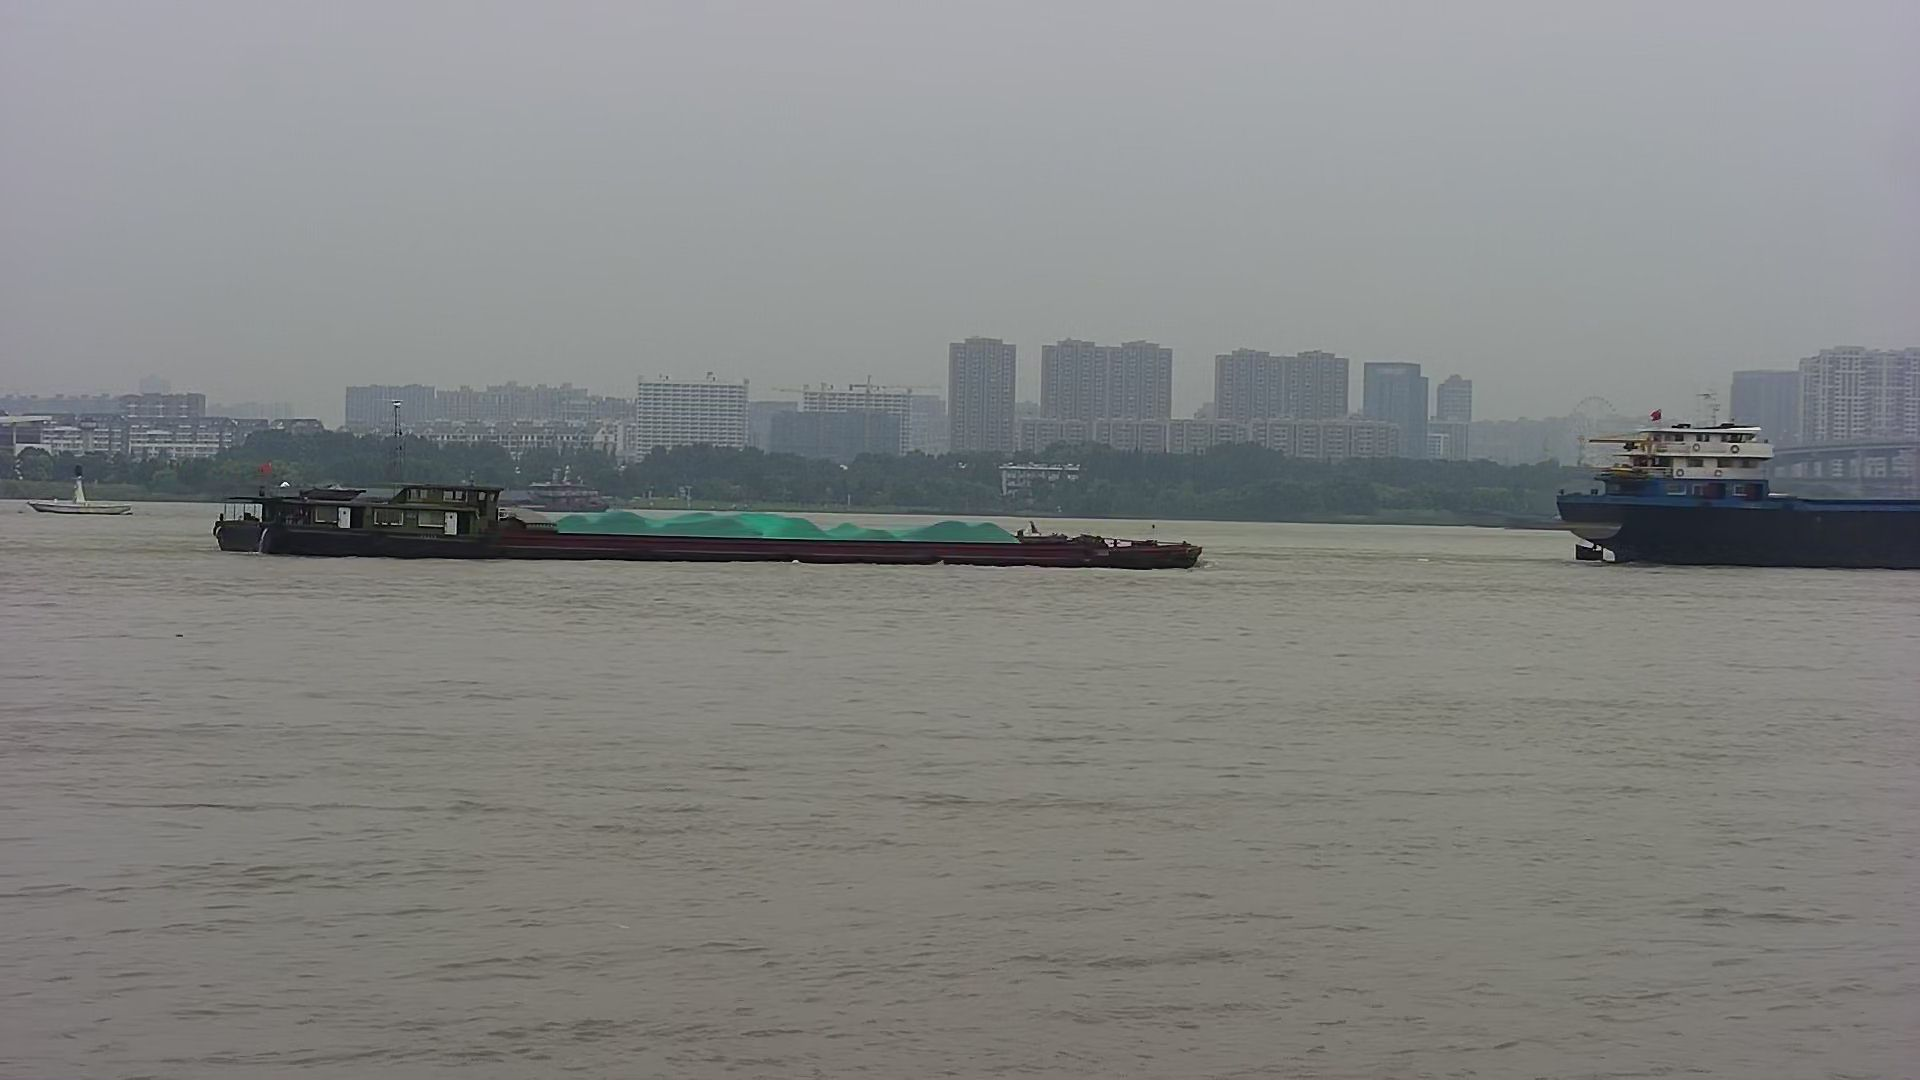boat: (22, 462, 148, 526)
ship: (206, 454, 1216, 585), (1524, 380, 1920, 578)
